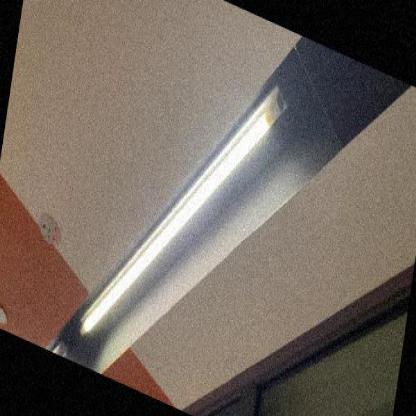light_on: (77, 3, 293, 412)
